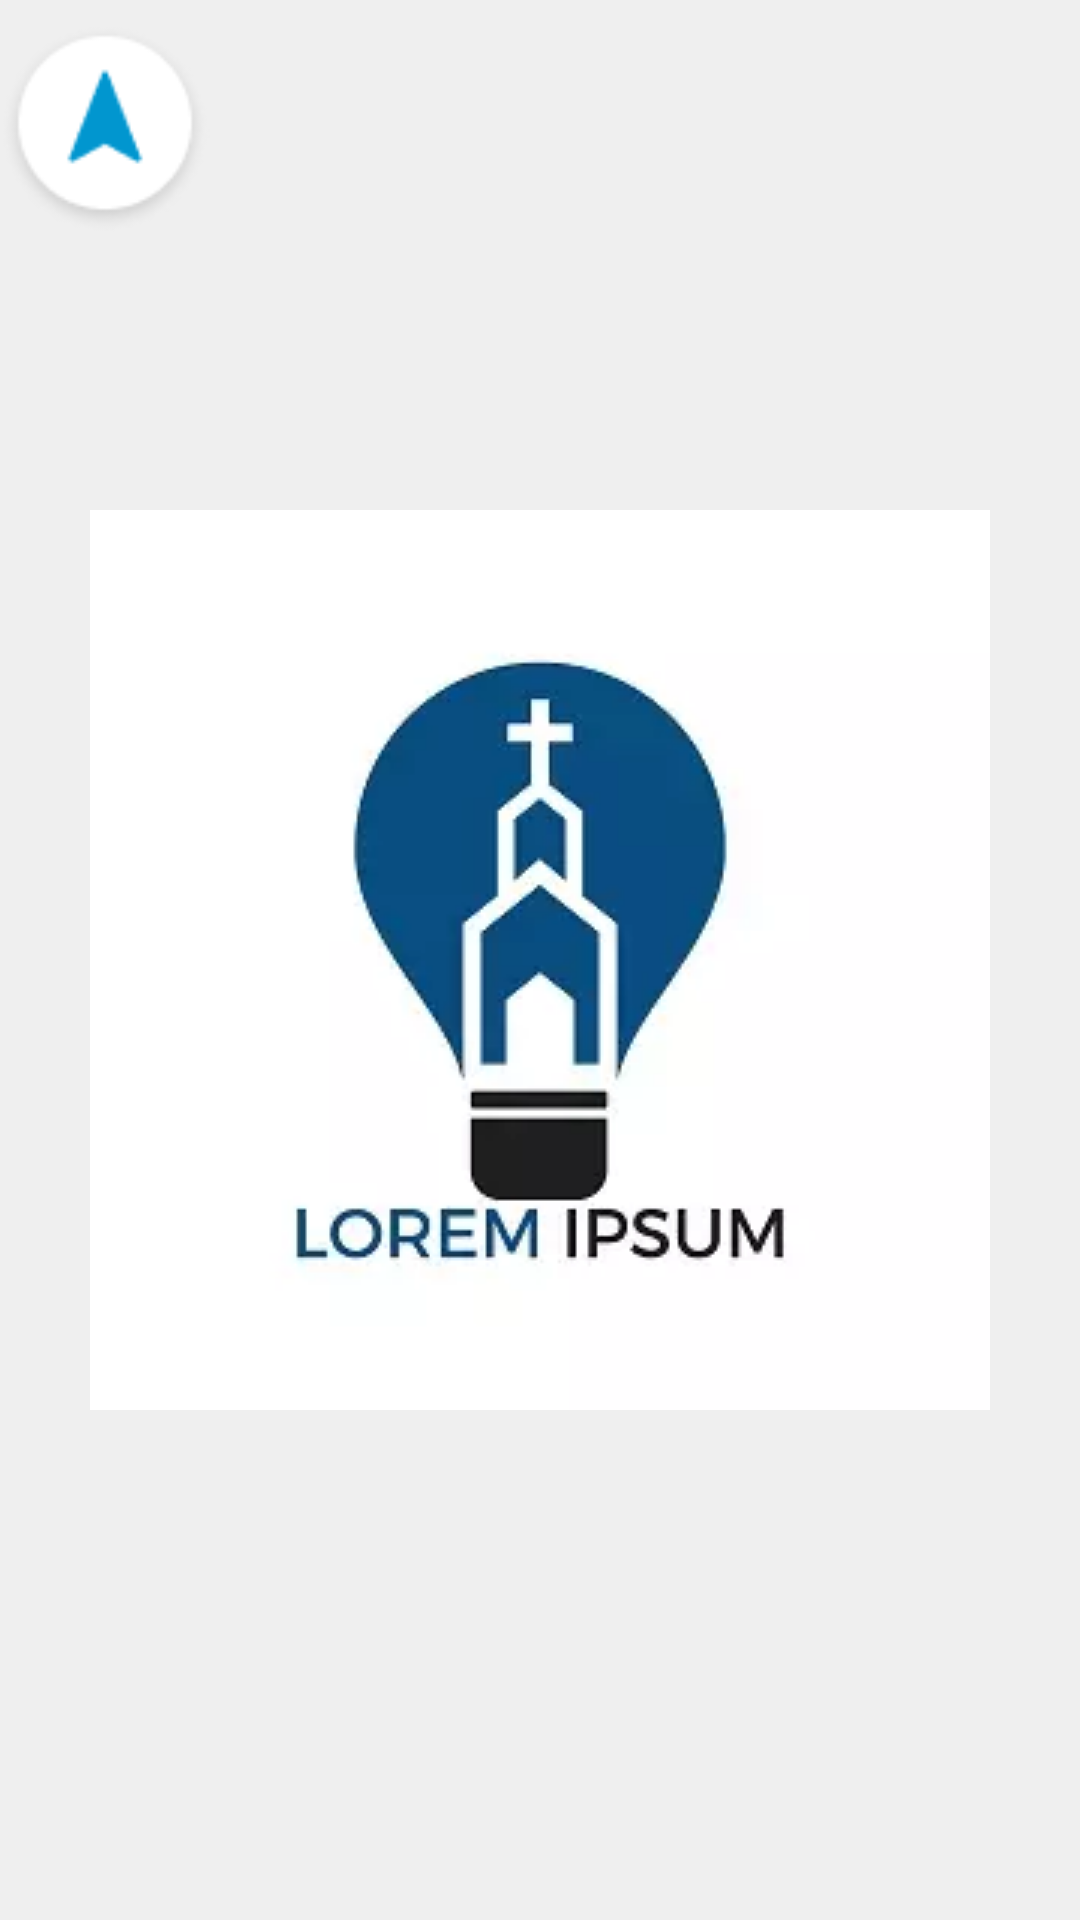

Where icons sit on this 1080px×1920px app screen, as (x1, y1, x2, y2):
dir arrow: (12, 37, 198, 221)
